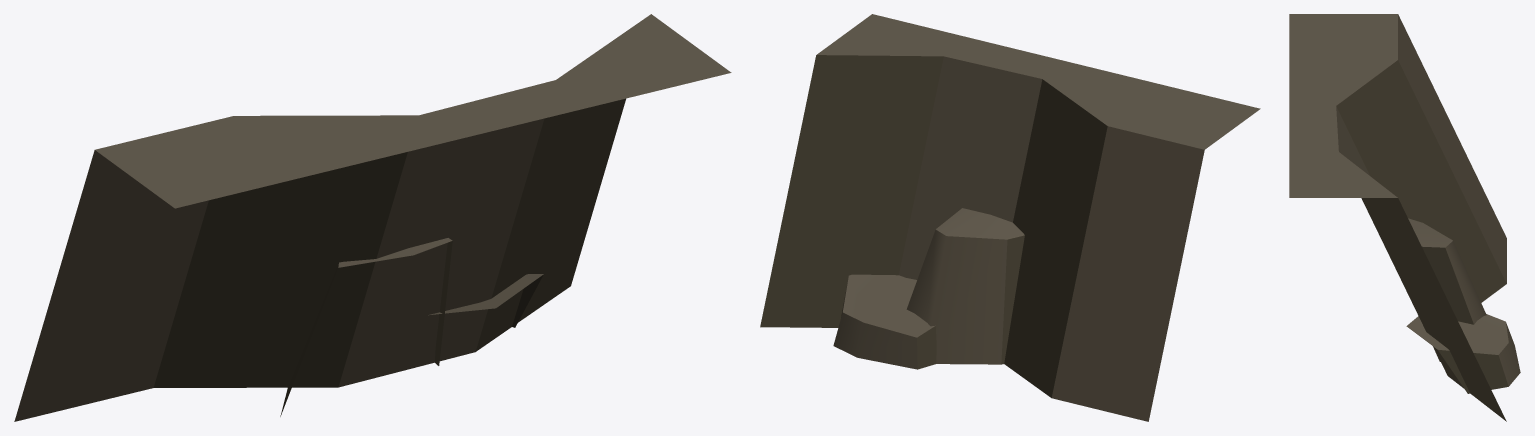
File: SF_Env_RockEdge_Straight_03.fbx
3 renders of one model, left to right at view 1: azimuth 30°, elevation 25°; view 2: azimuth 150°, elevation 25°; view 3: azimuth 270°, elevation 25°, orthographic. The views are drawn at different scales.
Visible parts, largest first — view 1: SF_Env_RockEdge_Straight_03; view 2: SF_Env_RockEdge_Straight_03; view 3: SF_Env_RockEdge_Straight_03.
Part boxes in pixels (x1,y1,x2,y2): SF_Env_RockEdge_Straight_03: [14, 14, 731, 421]; SF_Env_RockEdge_Straight_03: [760, 14, 1260, 421]; SF_Env_RockEdge_Straight_03: [1289, 14, 1520, 421].
Bounding box in the file's own units: 10 × 5.68 × 5.32.
